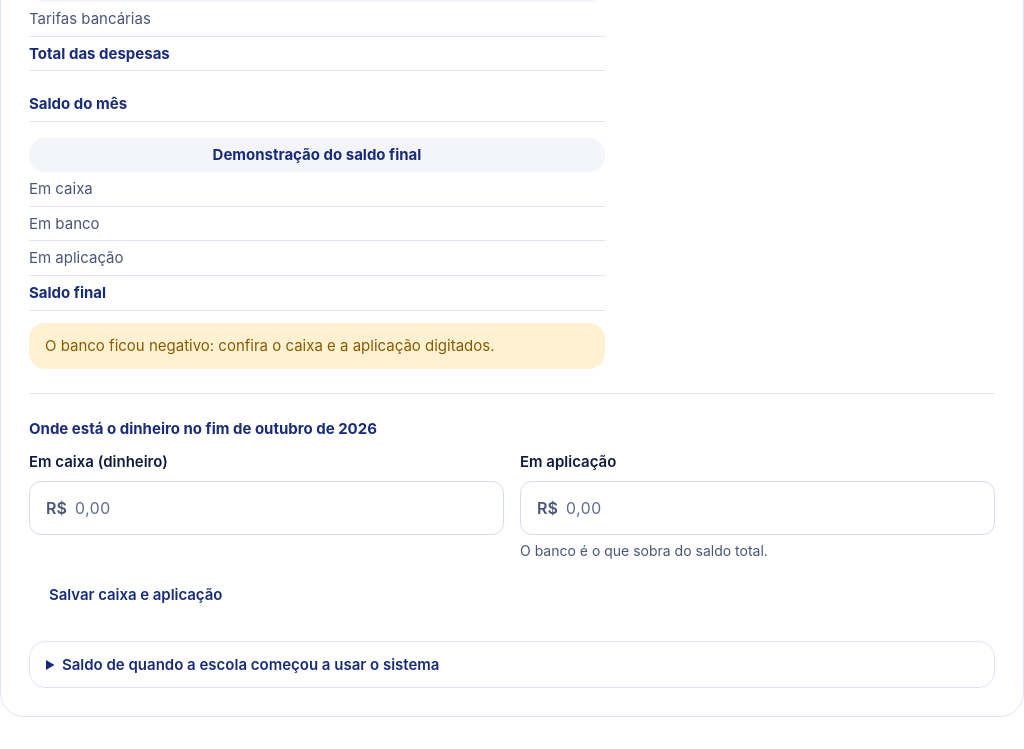
it: BalanceteCard › o banco negativo vira aviso e uma recusa da API vira texto, sem o codigo
(page scrolled)
Check: the text "O banco ficou negativo: confira o caixa e a aplicação digitados." is shown, box left=29, top=323, right=605, bottom=369
Click the button "Salvar caixa e aplicação" at (136, 595), box left=29, top=573, right=242, bottom=617
(page scrolled)
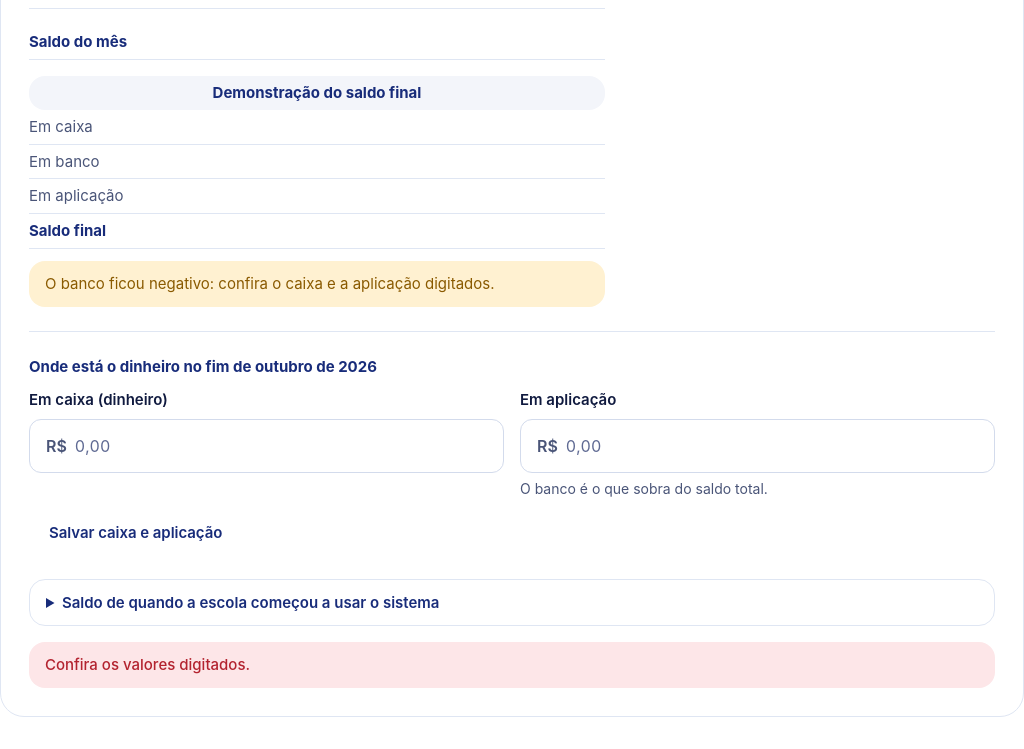
Check: the text "Confira os valores digitados." is shown, box left=29, top=642, right=995, bottom=688
